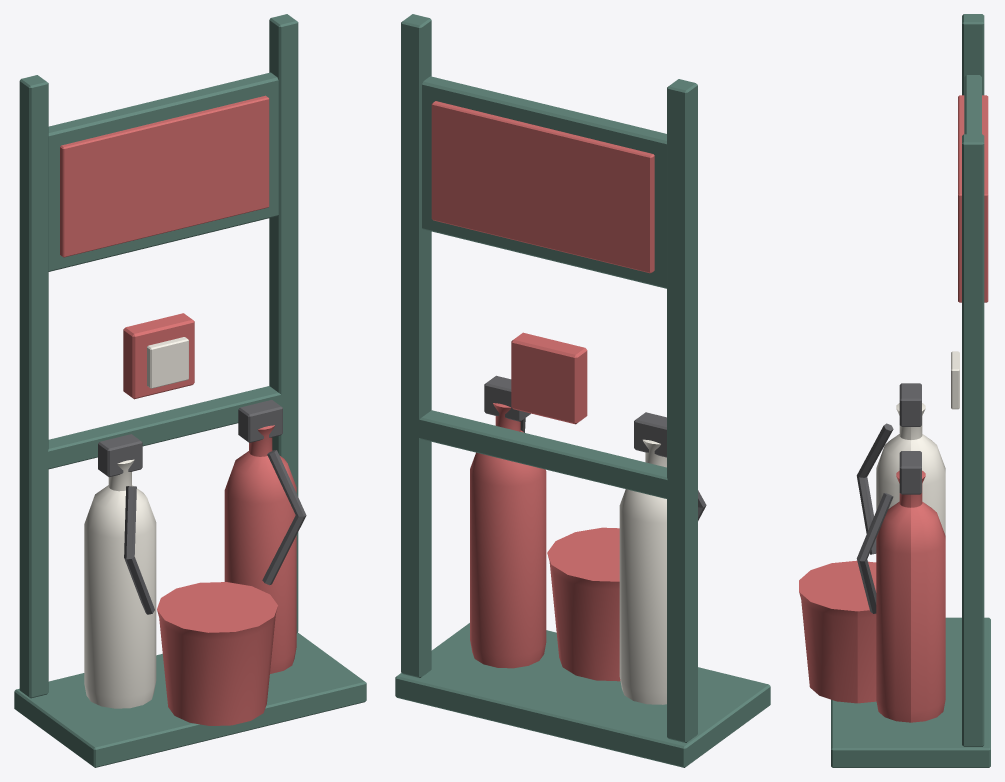
The picture shows the model from 3 angles, left to right: view 1: azimuth 30°, elevation 25°; view 2: azimuth 150°, elevation 25°; view 3: azimuth 270°, elevation 25°; orthographic projection. The views are drawn at different scales.
Parts seen in each view (by area): view 1: fire-point; view 2: fire-point; view 3: fire-point.
Boxes of the visible parts, left/top/right/bottom form: fire-point: left=14, top=14, right=366, bottom=767; fire-point: left=395, top=14, right=770, bottom=767; fire-point: left=799, top=14, right=990, bottom=767.
Size of the model in its own units: 0.7 by 1.55 by 0.4315.
